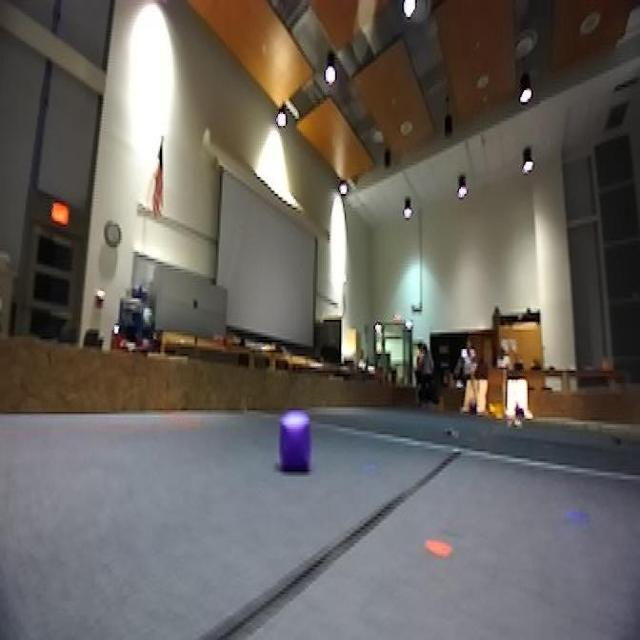frc_cube: (276, 412, 314, 477)
